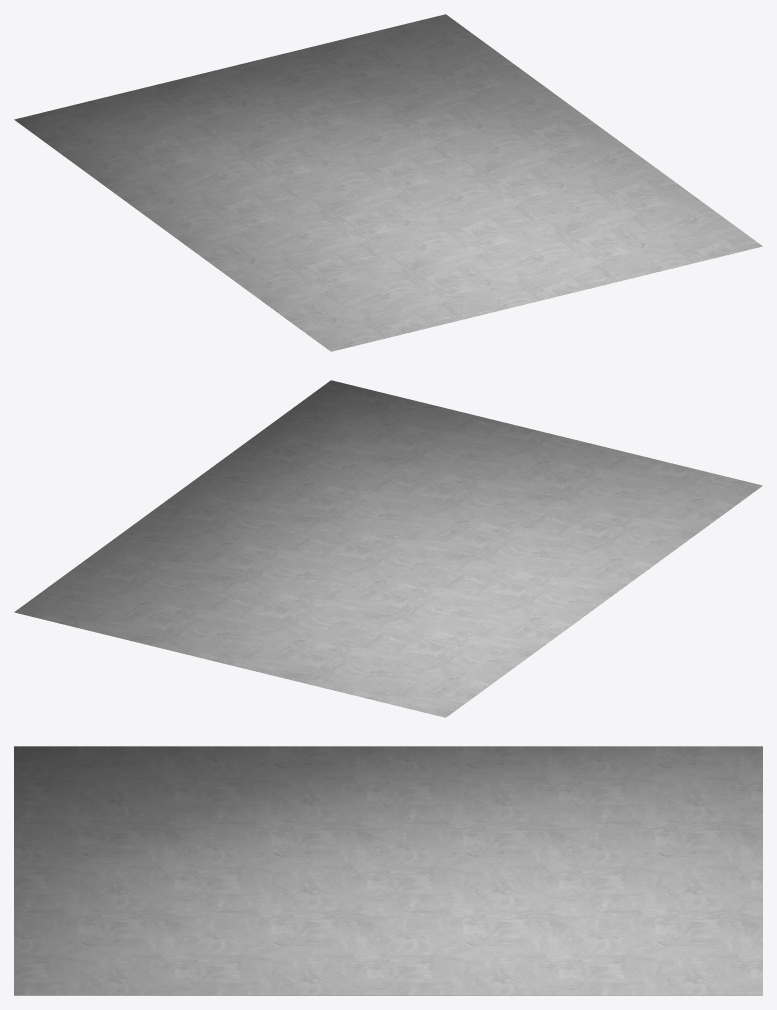
Rendered from ceiling.obj.
3 views of the same model, one above another, from view 1: azimuth 30°, elevation 25°; view 2: azimuth 150°, elevation 25°; view 3: azimuth 270°, elevation 25° (orthographic). The views are drawn at different scales.
Parts seen in each view (by area): view 1: gora; view 2: gora; view 3: gora.
Part boxes in pixels (box(x1,y1,x2,y2)): gora: box(14, 14, 762, 351); gora: box(14, 380, 762, 717); gora: box(14, 746, 762, 995).
Bounding box in the file's own units: 11.23 × 0.1229 × 14.28.
Materials: 2 (2 with a texture image).
